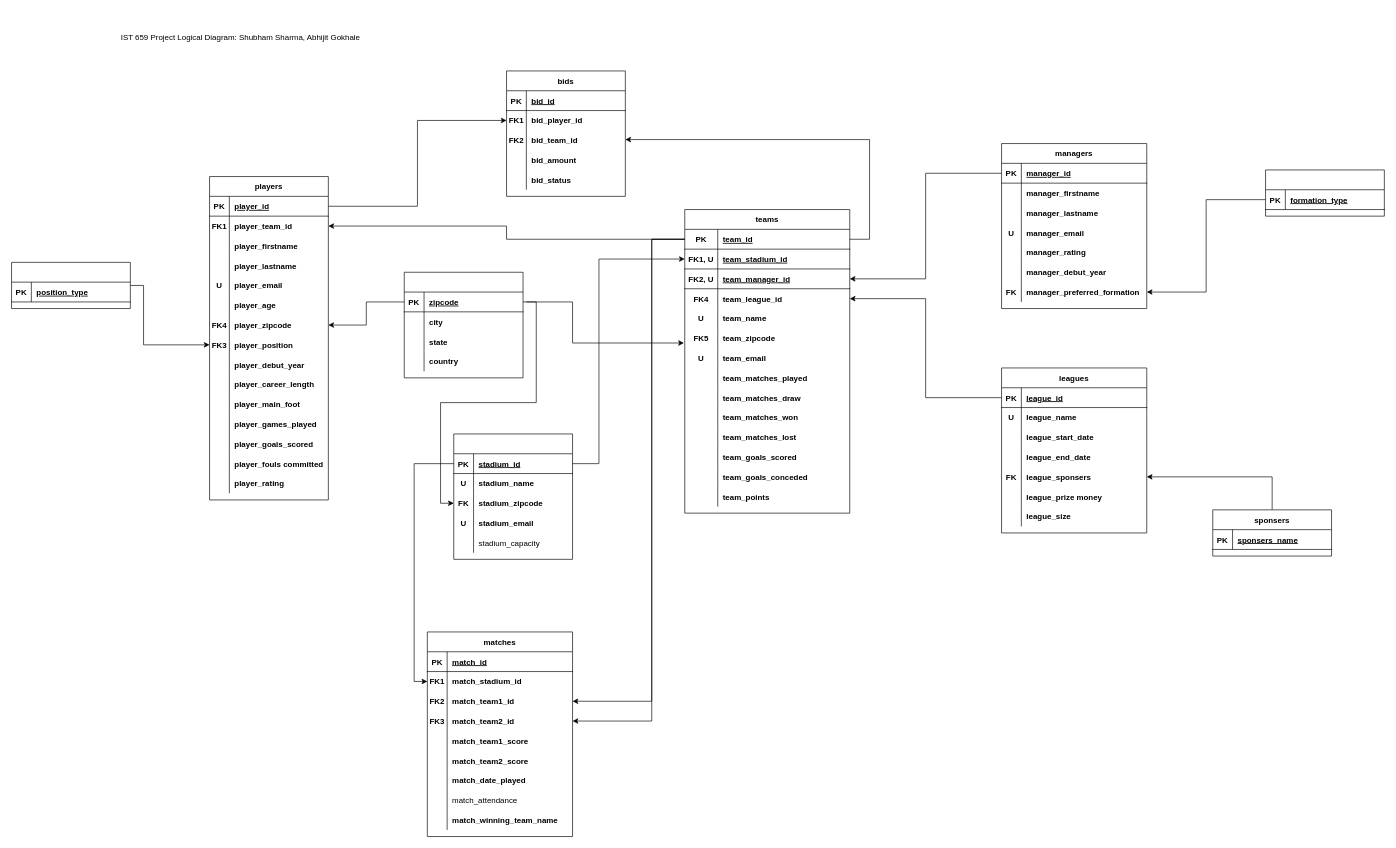
This 1396x848 diagram has some shape labels left out. The box of each missing label's shape, as (x1, y1, x2, y2) in pixels:
address: (404, 272, 523, 378)
field_positions: (11, 262, 130, 309)
formations: (1265, 169, 1384, 216)
stadiums: (453, 433, 573, 559)
